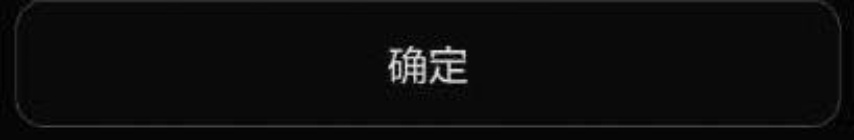Button: (1, 1, 853, 139)
